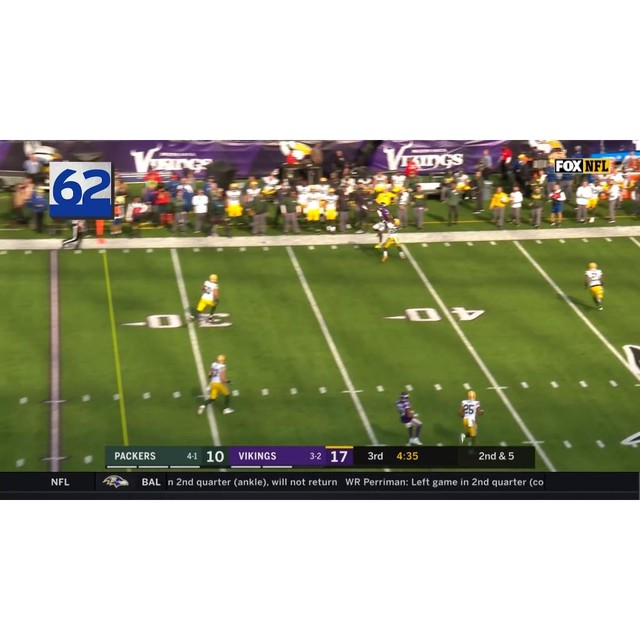american-football-player: (197, 354, 236, 416), (191, 273, 222, 324), (395, 391, 424, 445), (458, 390, 483, 447), (380, 217, 407, 263), (583, 262, 605, 311), (372, 204, 392, 249)
referee: (60, 219, 86, 252)
